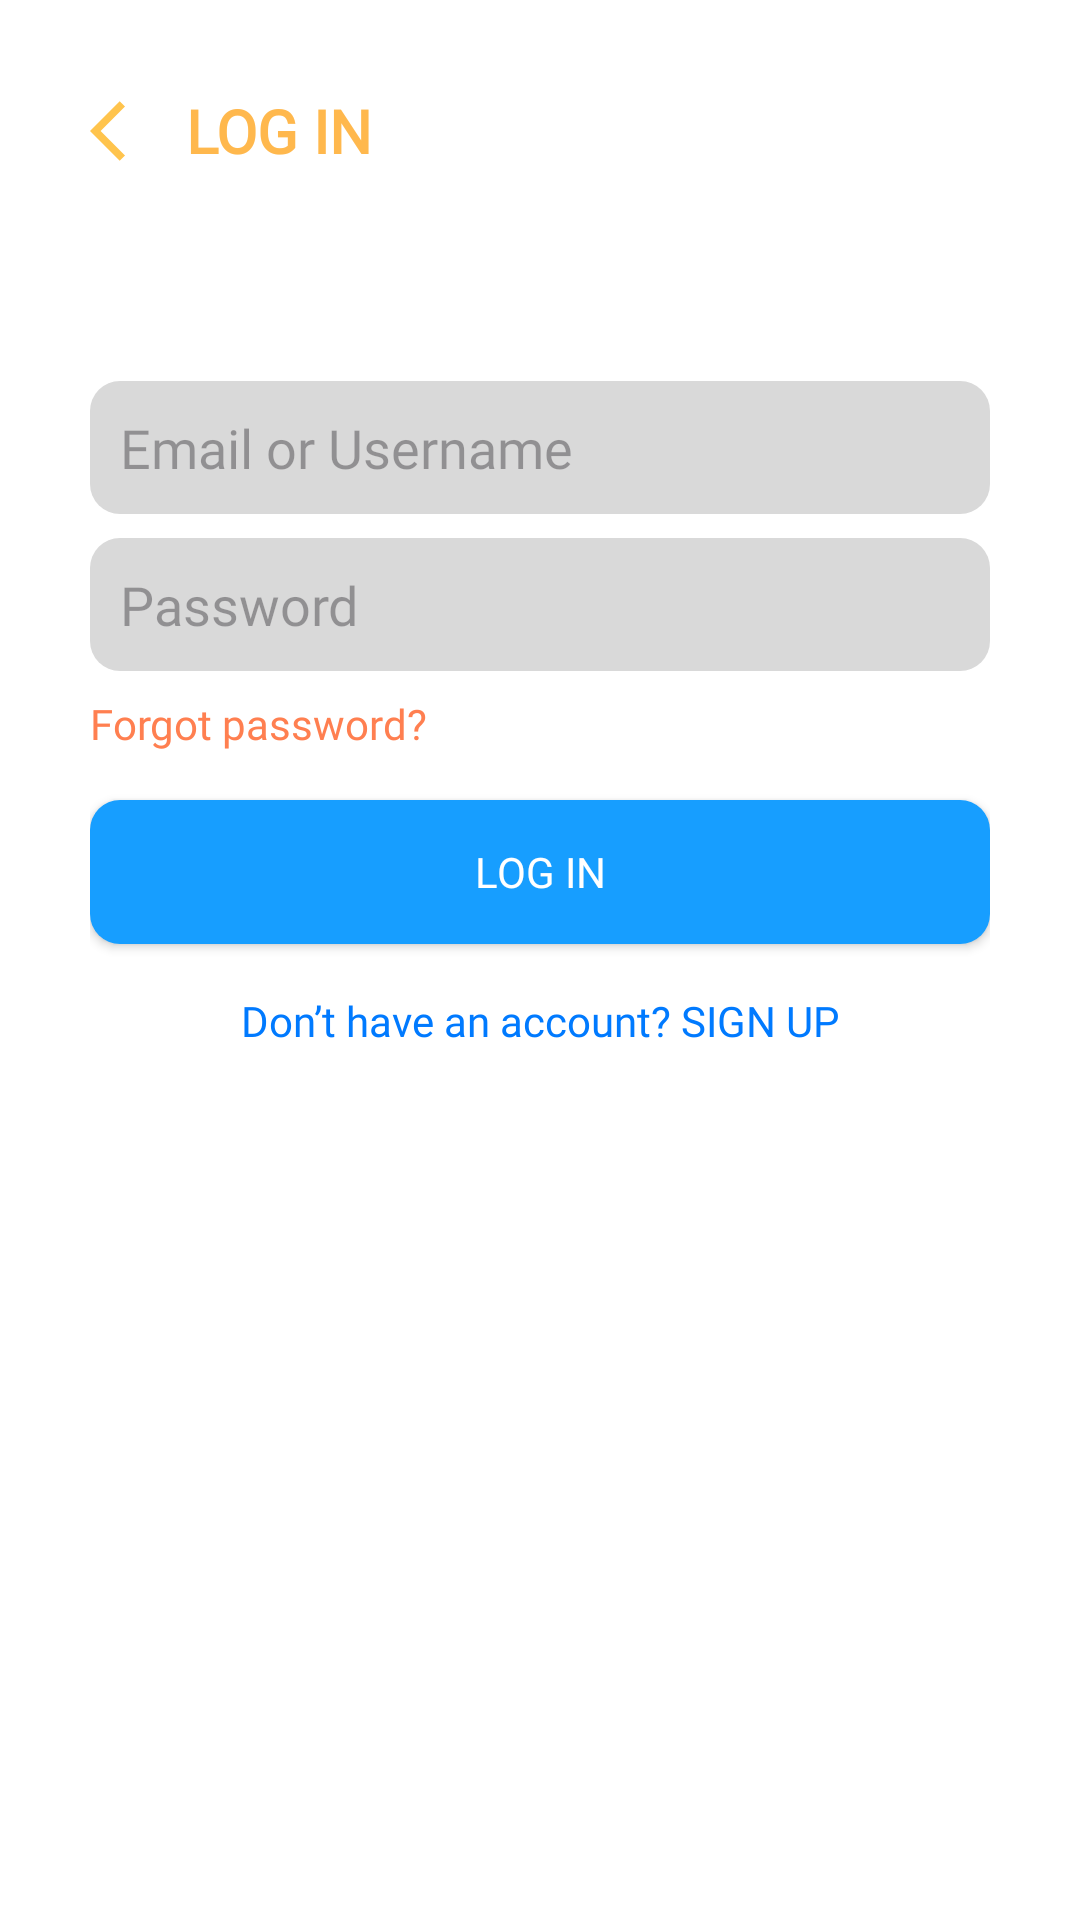

Locate icon controls on the screen. Image size 1080*1920, boxes as (x1, y1, x2, y2).
back: (90, 101, 125, 161)
